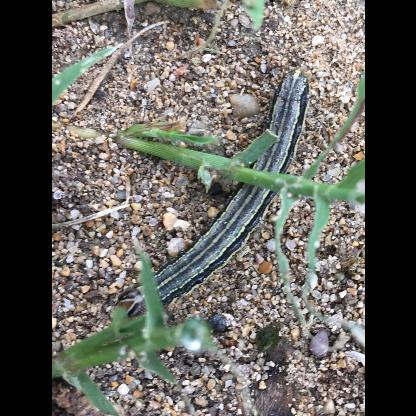Fall Armyworm Larvae: (109, 63, 313, 324)
